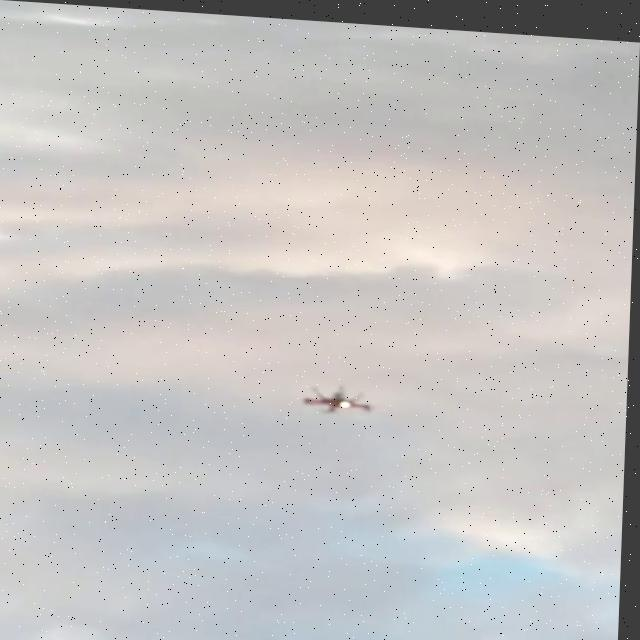drone: (298, 377, 380, 415)
